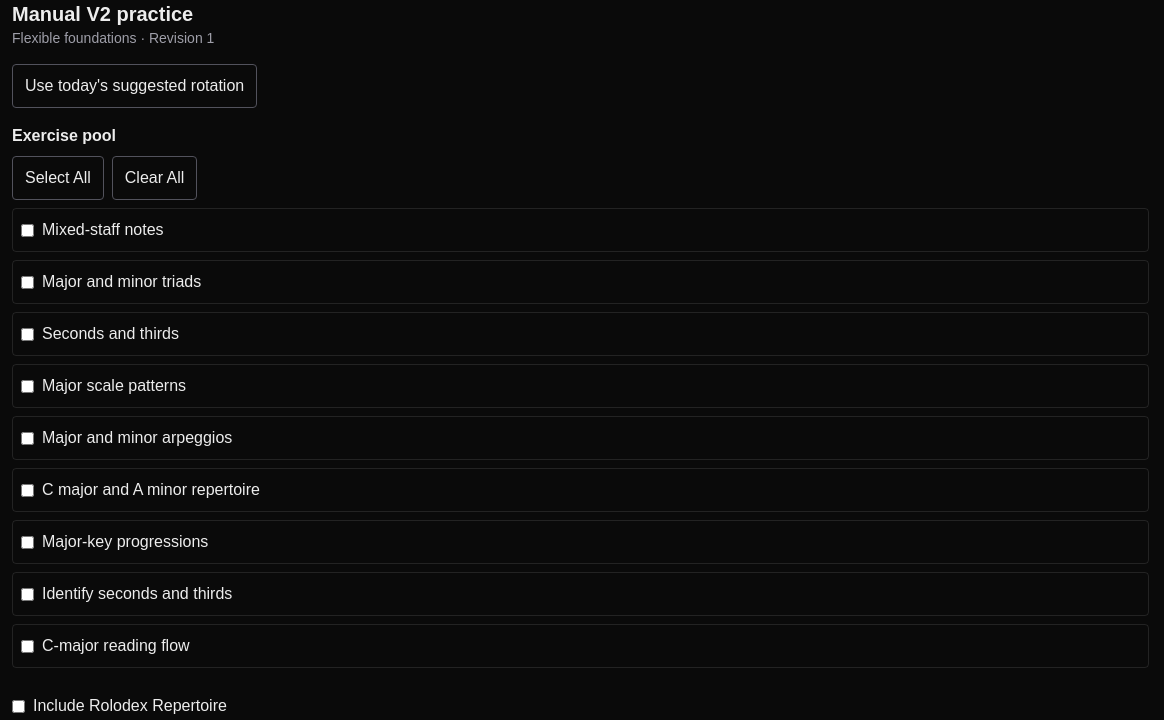
Scenario: weekly daily selection and native attempts › rejects empty selection and permits ordered off-rotation subsets
Step 1. Click the checkbox labelled "Seconds and thirds" → (28, 334), box [21,328,34,340]
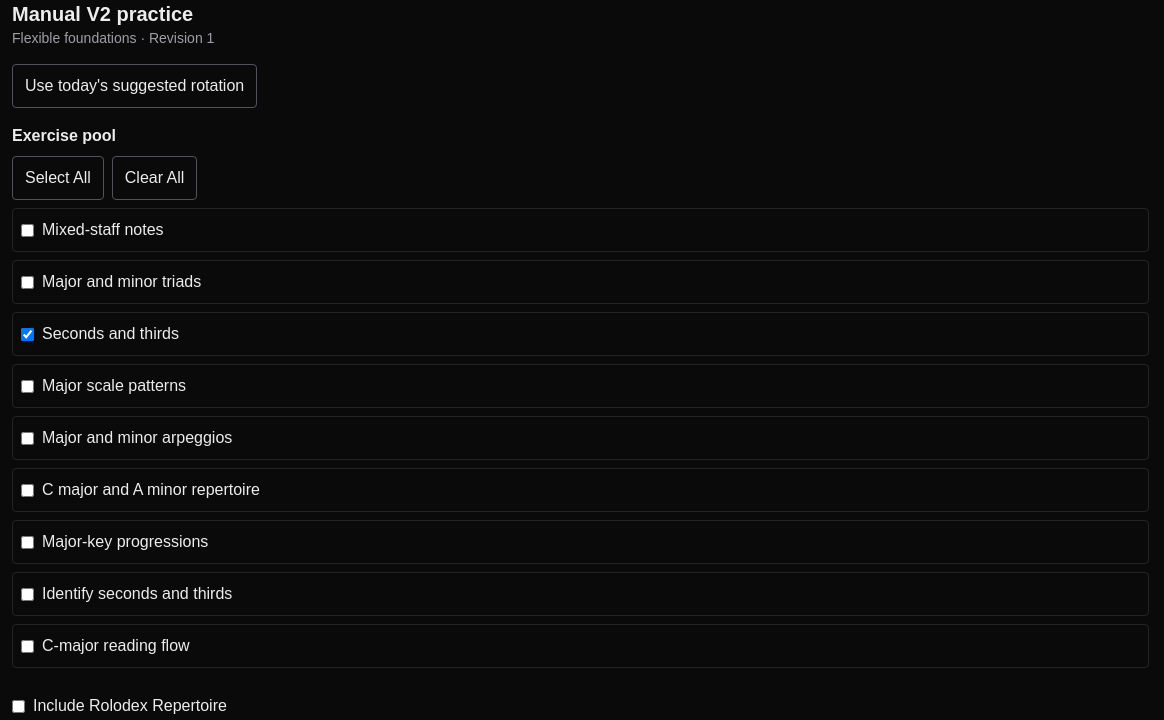
Step 2. Click the checkbox labelled "Mixed-staff notes" → (28, 230), box [21,224,34,236]
(page scrolled)
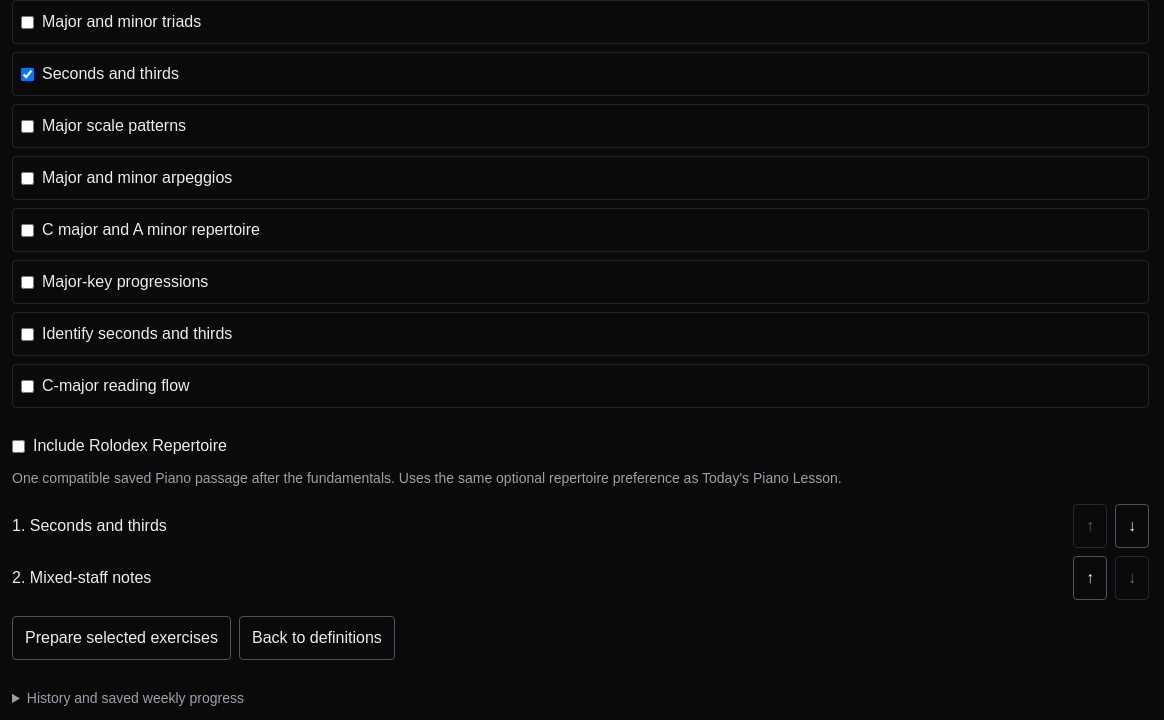
Step 3. Click the button named "Move exercise-0 earlier" → (1090, 578), box [1073,556,1107,600]
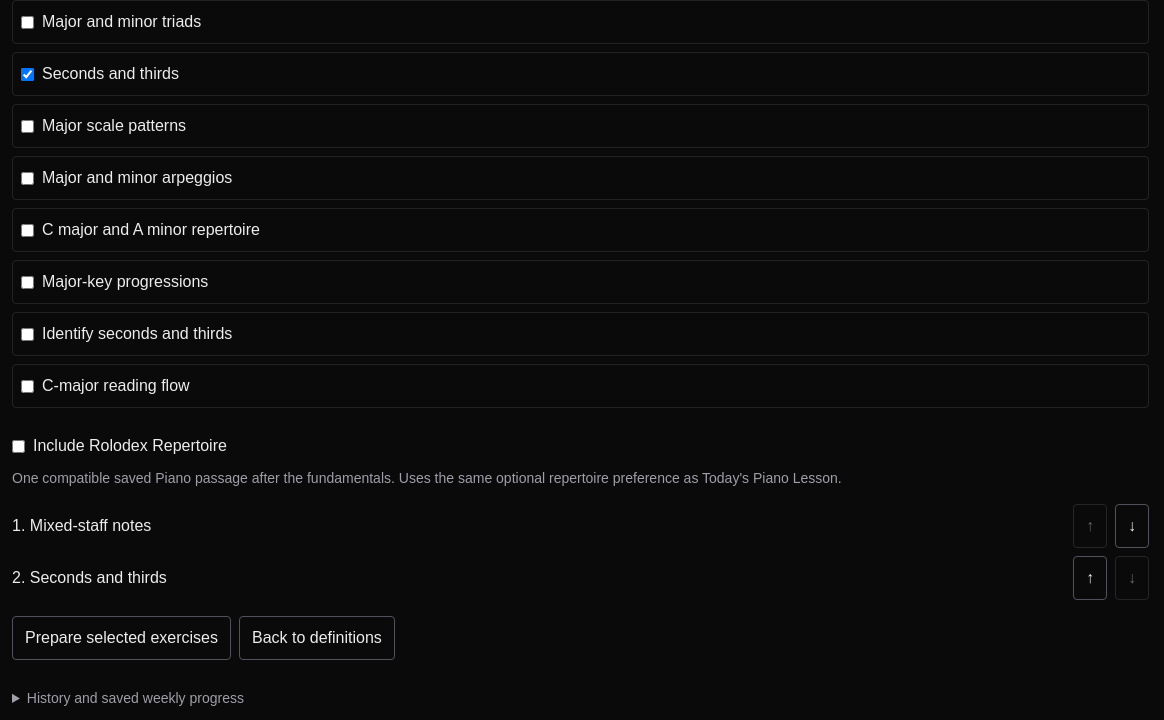
Step 4. Click the button "Prepare selected exercises" → (122, 638), box [12,616,231,660]
(page scrolled)
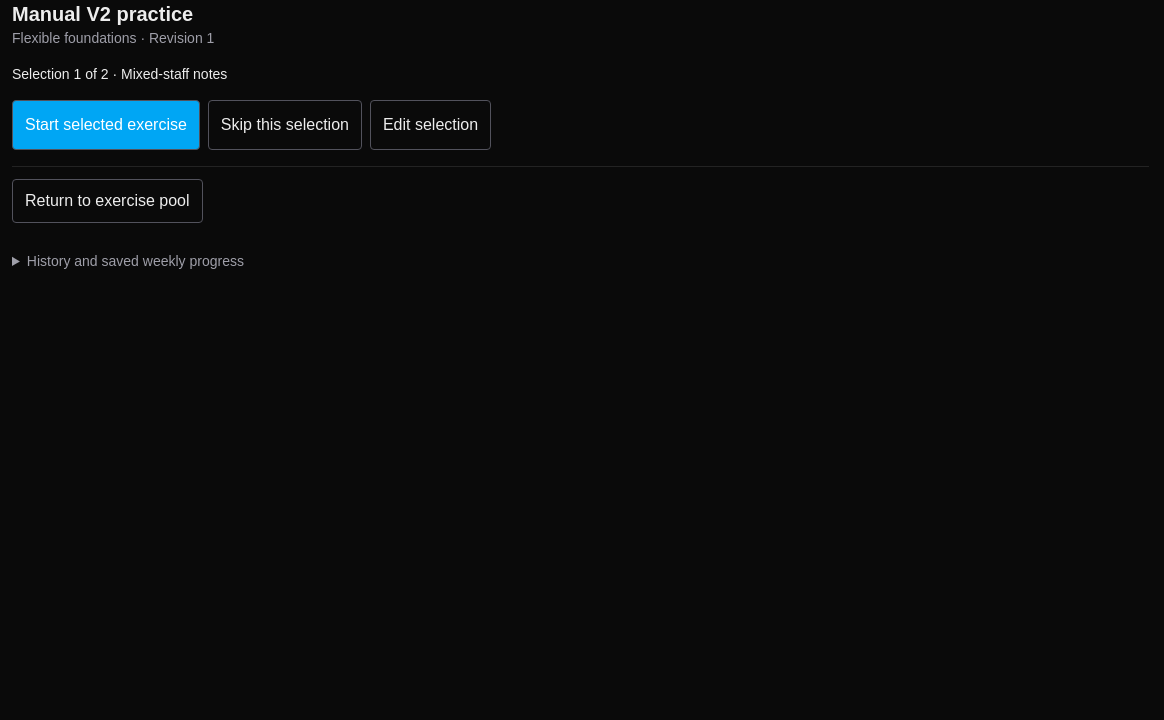
Now the text "Selection 1 of 2 · Mixed-staff notes" is shown, box [12,66,227,82]
